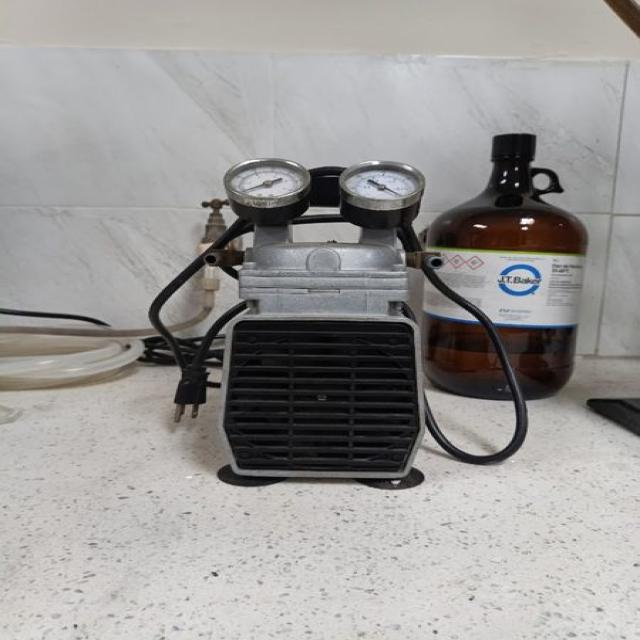Bomba de Vacio de Membrana - Diafragma Portatil: (149, 159, 525, 486)
